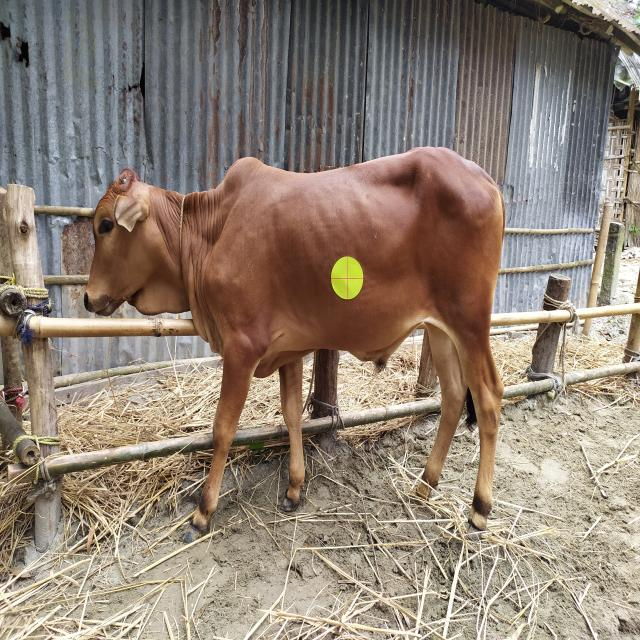badan_sapi: (215, 176, 506, 363)
sapi: (78, 139, 528, 540)
